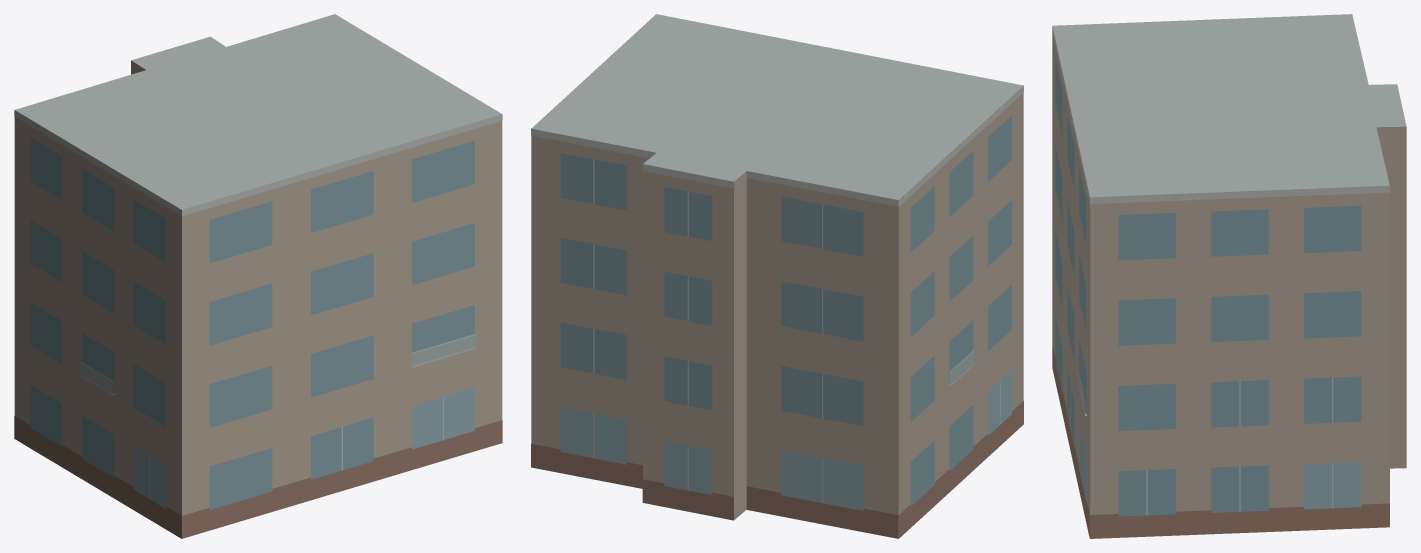
The model's file is survey-upis-32945259.glb.
3 views of the same model, side by side, from view 1: azimuth 30°, elevation 25°; view 2: azimuth 150°, elevation 25°; view 3: azimuth 270°, elevation 25° (orthographic). The views are drawn at different scales.
Visible parts, largest first — view 1: survey-upis-32945259.tmp; view 2: survey-upis-32945259.tmp; view 3: survey-upis-32945259.tmp.
Part boxes in pixels (box(x1,y1,x2,y2)): survey-upis-32945259.tmp: box(14, 14, 502, 538); survey-upis-32945259.tmp: box(531, 14, 1023, 538); survey-upis-32945259.tmp: box(1052, 14, 1406, 538).
Size of the model in its own units: 14.05 by 12.2 by 11.48.
